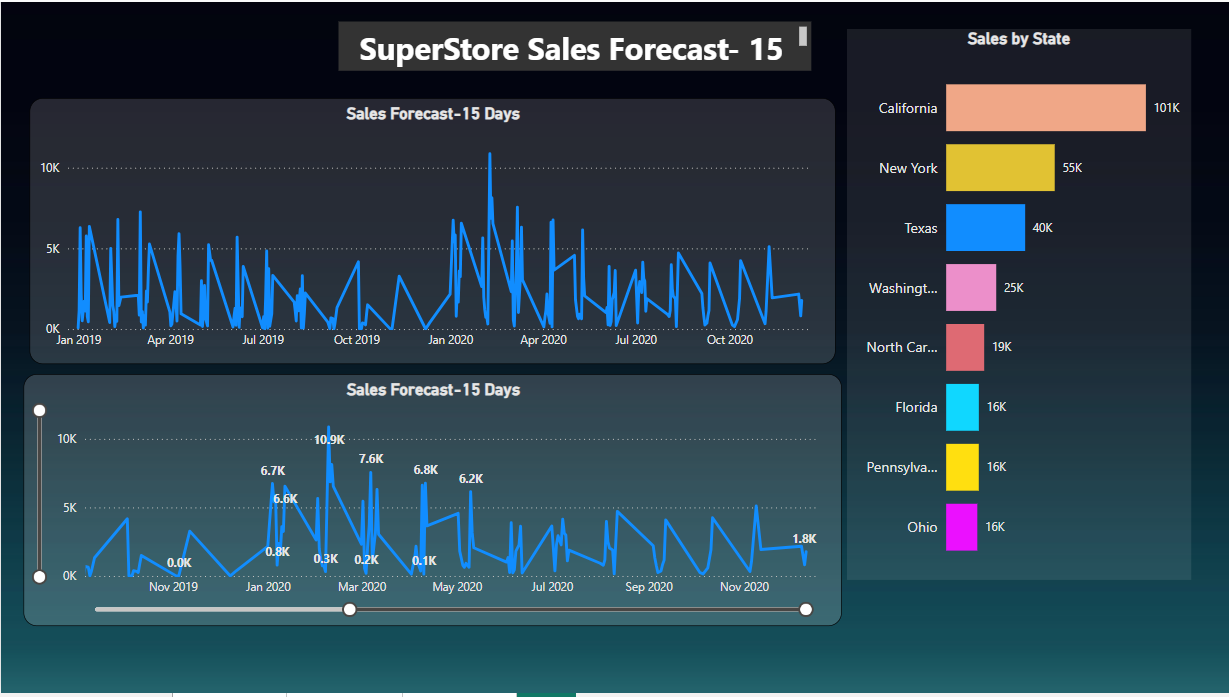

This screenshot's page, from the dashboard's own definition file:
{"tool":"powerbi","page":{"name":"Page 2","canvas":[1280,720],"ordinal":1},"visuals":[{"type":"lineChart","title":"Sales Forecast-15 Days","fields":{"Y":["Sum(SuperStore_Sales_Dataset.Sales)"],"Category":["SuperStore_Sales_Dataset.Order Date"]},"box":[22.9,387.1,852.9,262.9],"z":0},{"type":"lineChart","title":"Sales Forecast-15 Days","fields":{"Category":["SuperStore_Sales_Dataset.Order Date"],"Y":["Sum(SuperStore_Sales_Dataset.Sales)"]},"box":[30,100,840,277.1],"z":1},{"type":"textbox","box":[351.4,20,492.9,51.4],"z":2},{"type":"clusteredBarChart","title":" Sales by State","fields":{"Category":["SuperStore_Sales_Dataset.State"],"Y":["Sum(SuperStore_Sales_Dataset.Sales)"]},"box":[881.4,28.6,358.6,574.3],"z":3}]}

Visuals, with their boxes in screenshot pixels (x1, y1, x2, y2), scaled from the page's 1280x720 canvas onto the 1229x697 screenshot:
"Sales Forecast-15 Days" lineChart: [left=22, top=375, right=841, bottom=629]
"Sales Forecast-15 Days" lineChart: [left=29, top=97, right=835, bottom=365]
textbox: [left=337, top=19, right=811, bottom=69]
" Sales by State" clusteredBarChart: [left=846, top=28, right=1191, bottom=584]
